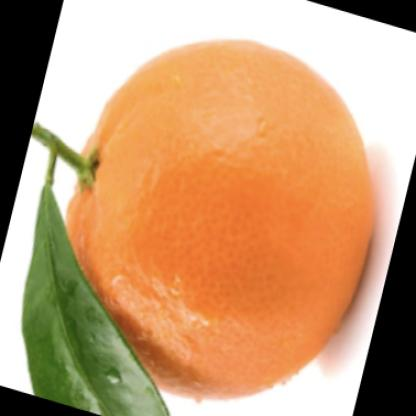fresh: (68, 39, 383, 388)
